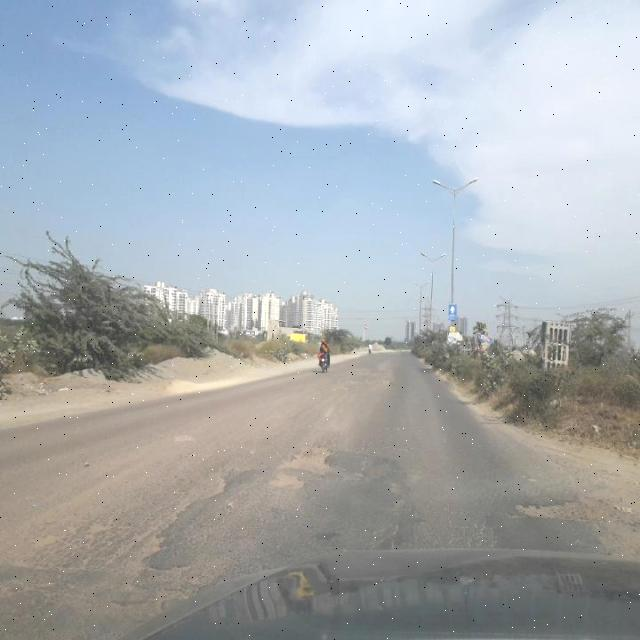D00: (367, 486, 401, 548)
D20: (0, 490, 159, 630), (174, 497, 290, 547), (434, 508, 502, 546)
D40: (108, 551, 238, 620), (508, 494, 630, 530), (267, 437, 333, 491), (330, 371, 396, 400), (122, 527, 165, 568), (196, 466, 239, 506), (36, 523, 74, 549), (87, 517, 115, 538), (171, 430, 198, 451)
